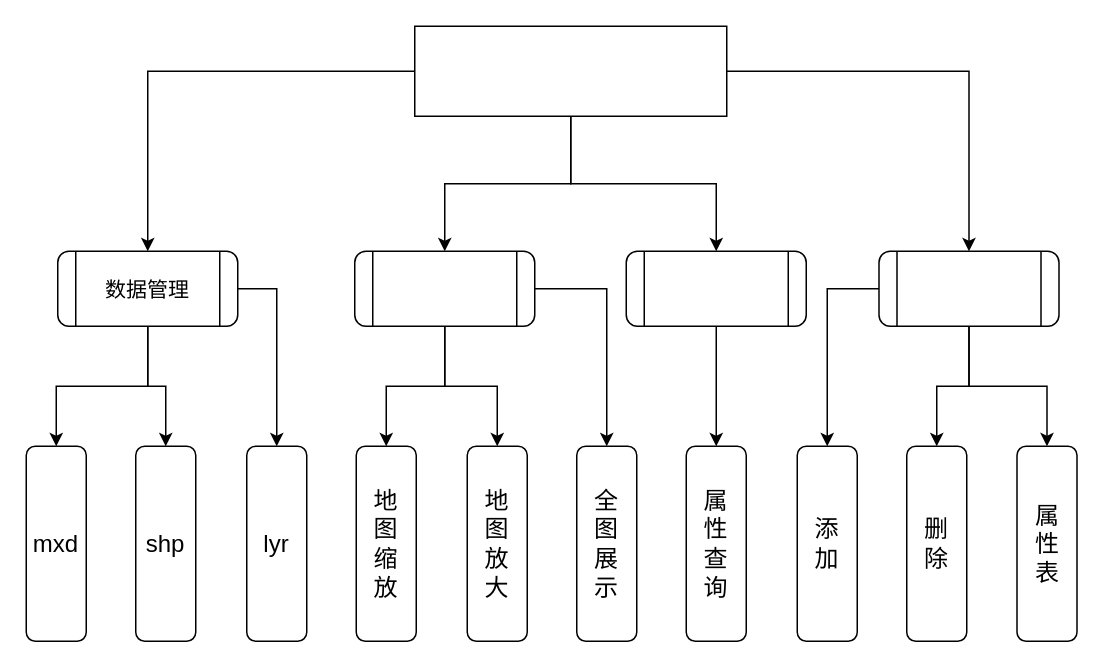
The diagram is 1104 pixels wide and 668 high, and some of its shapes have lost their labels. The box of each missing label's shape, as (x1, y1, x2, y2) in pixels:
信息查询: (625, 250, 806, 326)
图层管理: (878, 250, 1059, 326)
地图浏览: (353, 250, 535, 326)
武汉大学专题信息查询系统: (413, 25, 727, 116)
